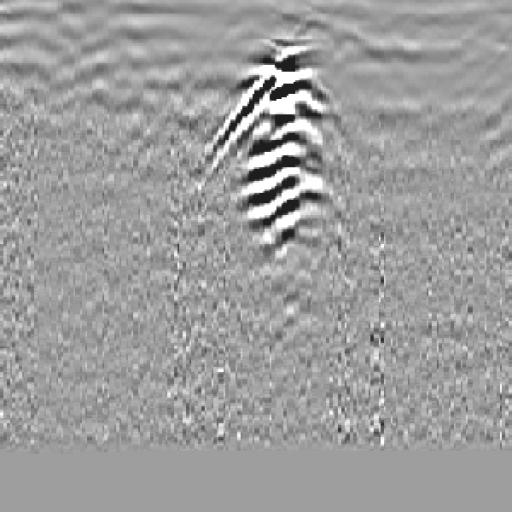metalic: (225, 35, 342, 270)
